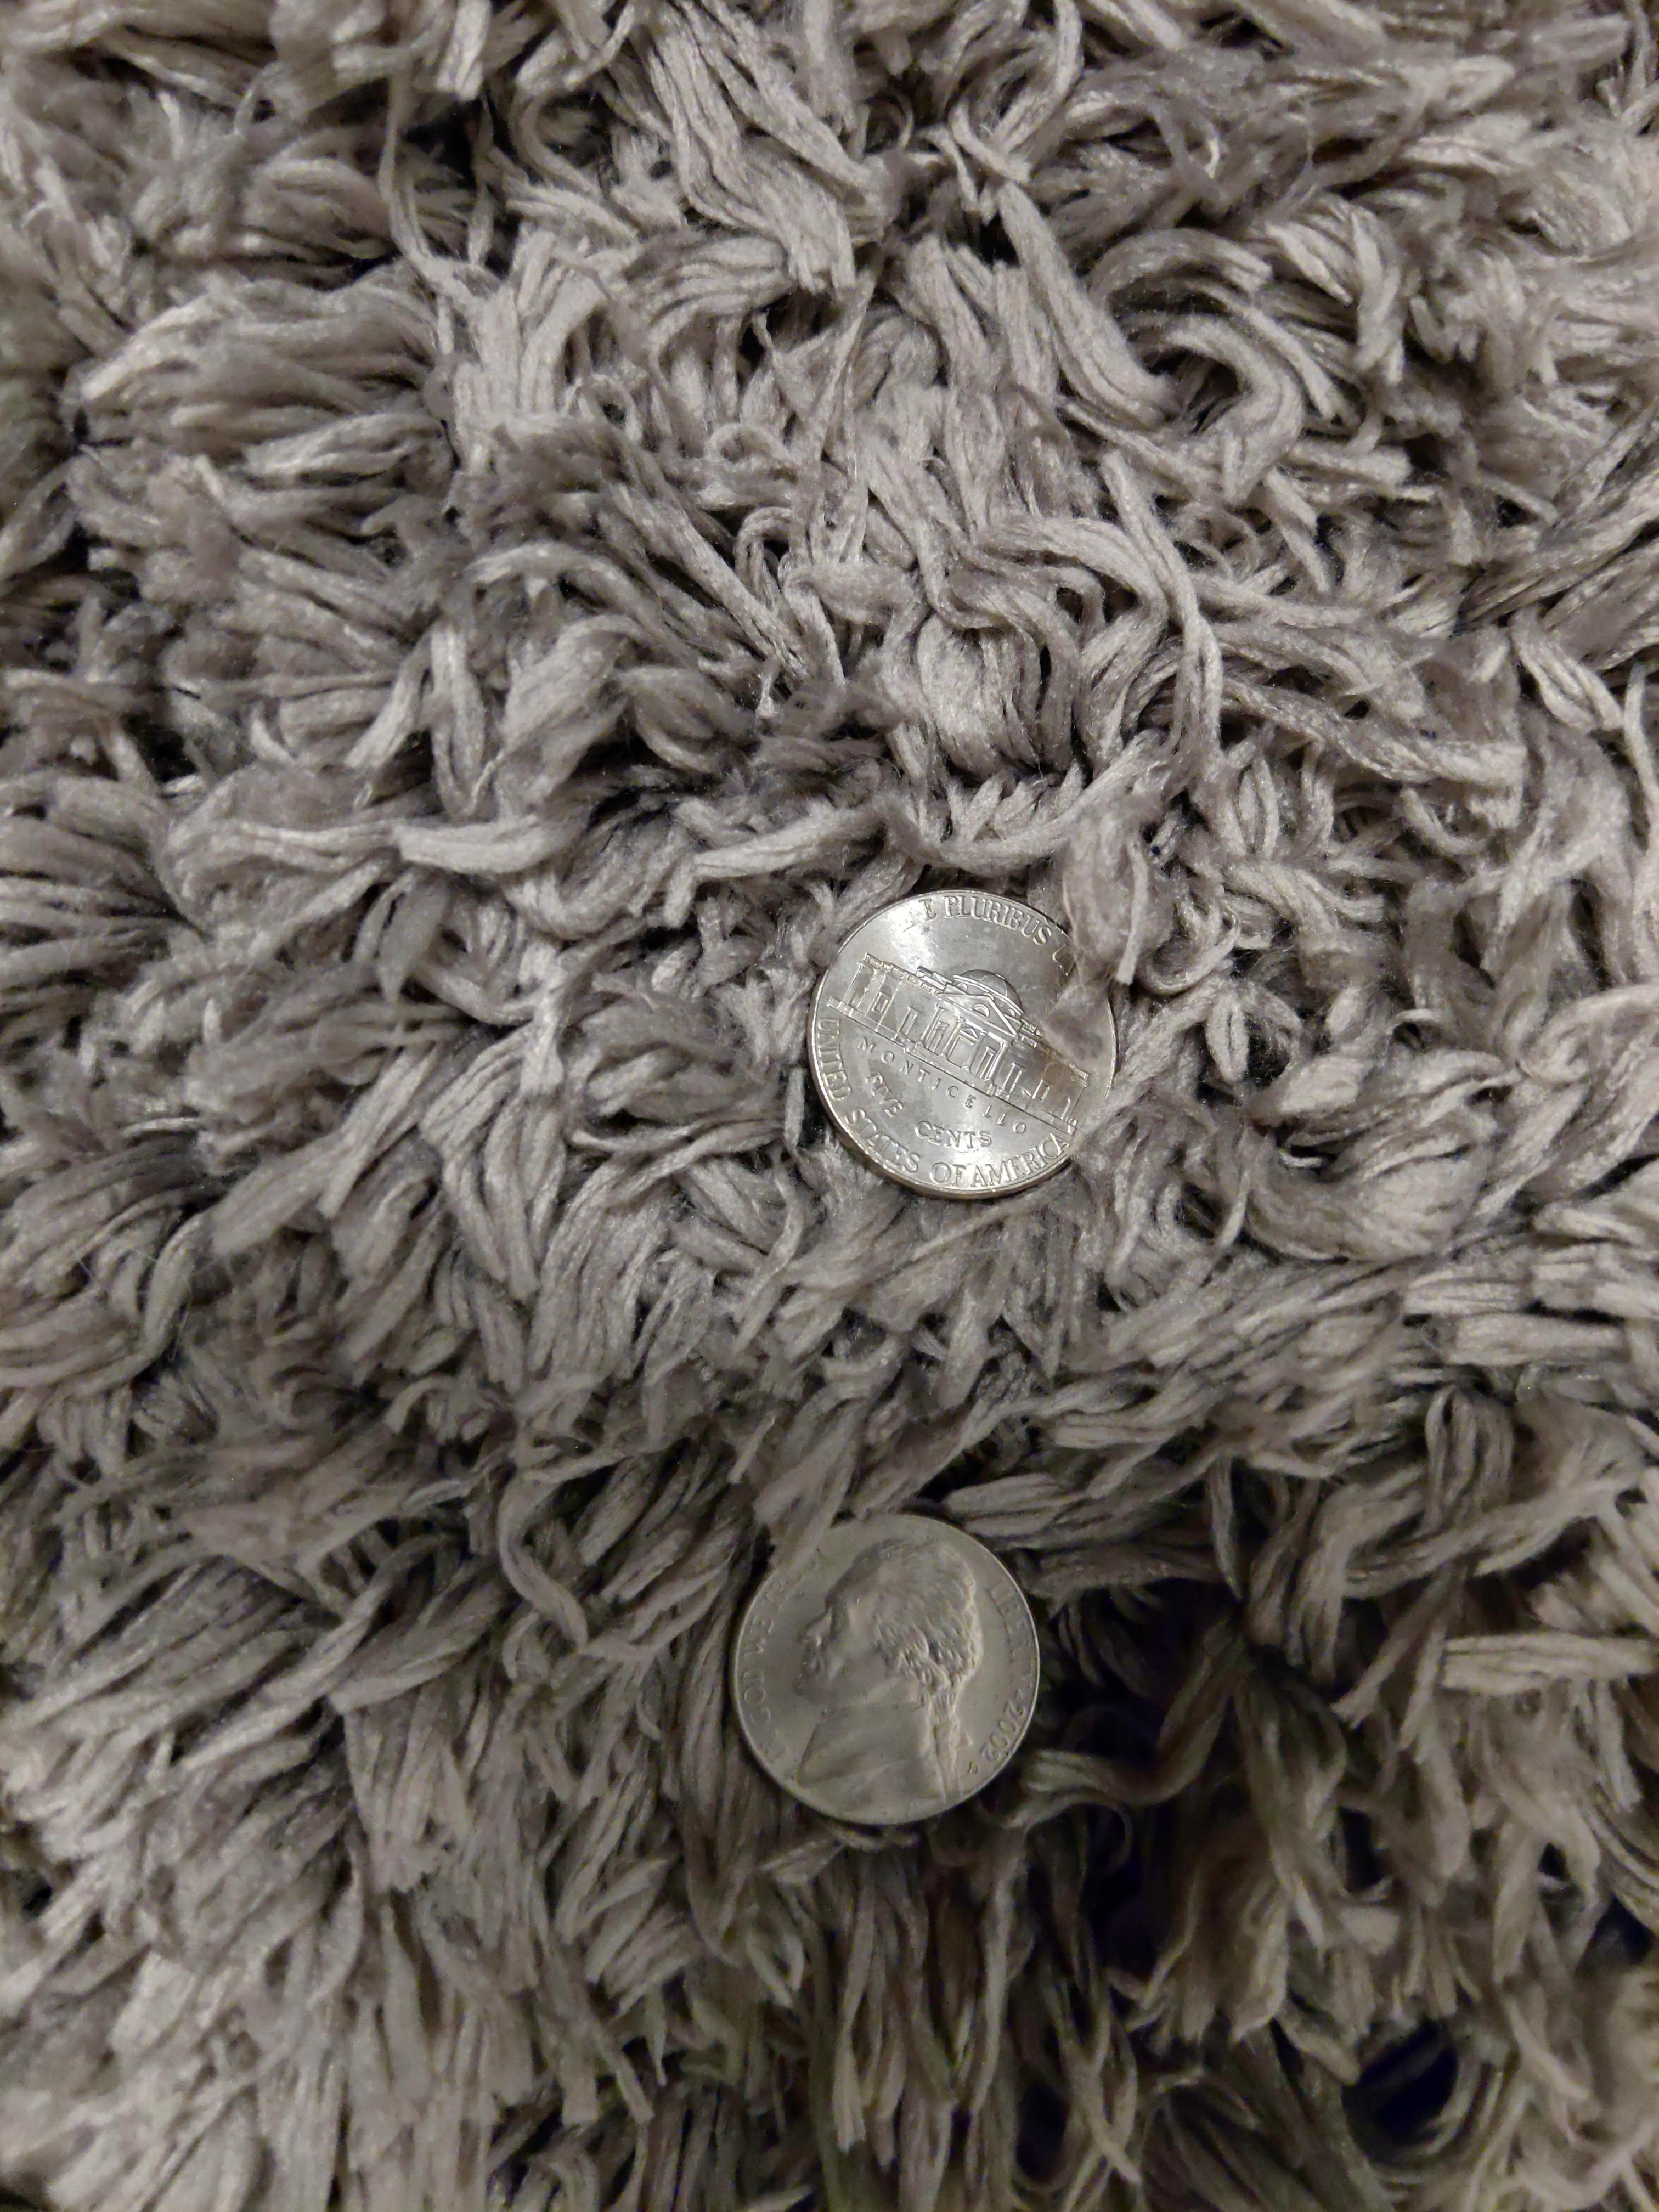Nickel: (725, 1507, 1042, 1832), (805, 887, 1119, 1205)
